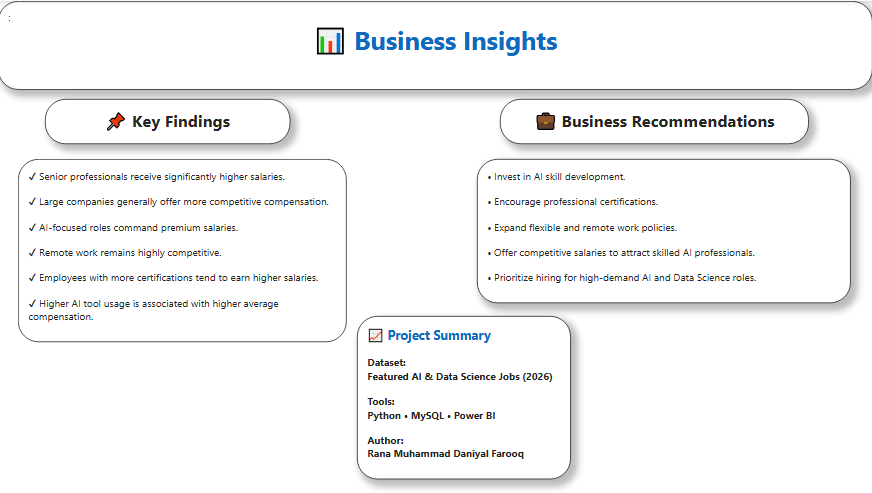

The page's visual inventory and layout, read from the dashboard file:
{"tool":"powerbi","page":{"name":"Page 3","canvas":[1280,720],"ordinal":2},"visuals":[{"type":"textbox","box":[0,0,1280.5,95.1],"z":0},{"type":"textbox","box":[36.6,120,345.4,64.4],"z":1},{"type":"textbox","box":[13.2,203.4,430.2,139],"z":2},{"type":"textbox","box":[424.4,496.1,349.8,65.9],"z":3},{"type":"textbox","box":[724.4,120,386.3,64.4],"z":4},{"type":"textbox","box":[689.3,203.4,472.7,226.8],"z":5},{"type":"textbox","box":[36.6,351.2,345.4,70.2],"z":6},{"type":"textbox","box":[13.2,430.2,401,289.8],"z":7},{"type":"textbox","box":[487.3,575.1,237.1,127.3],"z":9},{"type":"textbox","box":[774.1,562,440.5,102.4],"z":10}]}

Visuals, with their boxes in screenshot pixels (x1, y1, x2, y2), scaled from the page's 1280x720 canvas onto the 872x493 screenshot:
textbox: <region>0, 0, 871, 65</region>
textbox: <region>25, 82, 260, 126</region>
textbox: <region>9, 139, 302, 234</region>
textbox: <region>289, 340, 527, 385</region>
textbox: <region>493, 82, 757, 126</region>
textbox: <region>470, 139, 792, 295</region>
textbox: <region>25, 240, 260, 289</region>
textbox: <region>9, 295, 282, 492</region>
textbox: <region>332, 394, 493, 481</region>
textbox: <region>527, 385, 827, 455</region>
